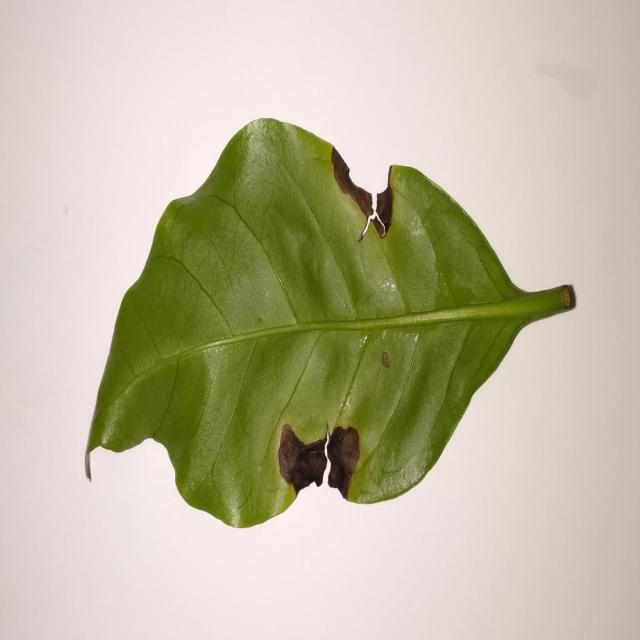Enfermedad-Antracnosis: (86, 118, 577, 531)
